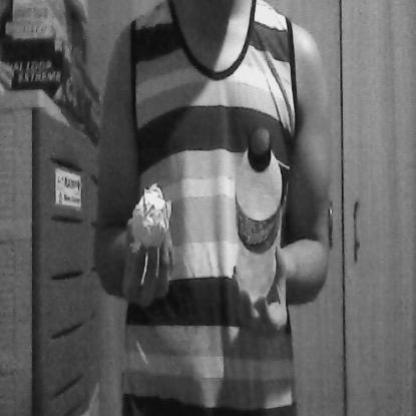Plastic Bottle: (230, 112, 287, 306)
